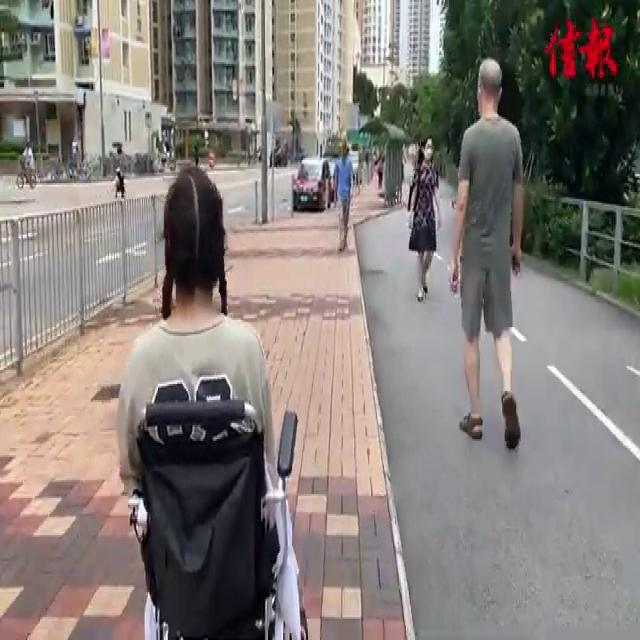wheelchairs: (104, 379, 320, 640)
